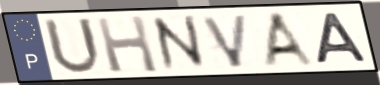A: (261, 9, 320, 68), (312, 11, 372, 65)
H: (92, 13, 161, 75)
N: (148, 13, 211, 74)
U: (41, 16, 104, 77)
V: (199, 12, 251, 70)
